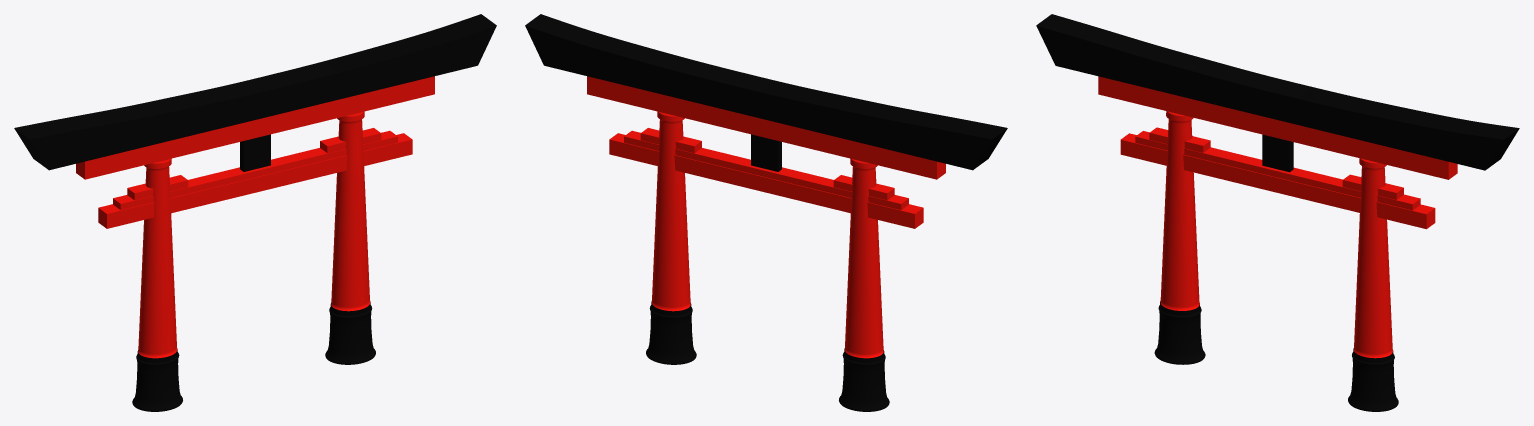
Rendered from torii.fbx.
3 views of the same model, side by side, from view 1: azimuth 30°, elevation 25°; view 2: azimuth 150°, elevation 25°; view 3: azimuth 330°, elevation 25° (orthographic).
Visible parts, largest first — view 1: Torii; view 2: Torii; view 3: Torii.
Boxes of the visible parts, bbox=[...] form: Torii: bbox=[14, 14, 496, 411]; Torii: bbox=[525, 14, 1007, 411]; Torii: bbox=[1036, 14, 1519, 411].
Size of the model in its own units: 2728 by 1685 by 232.
